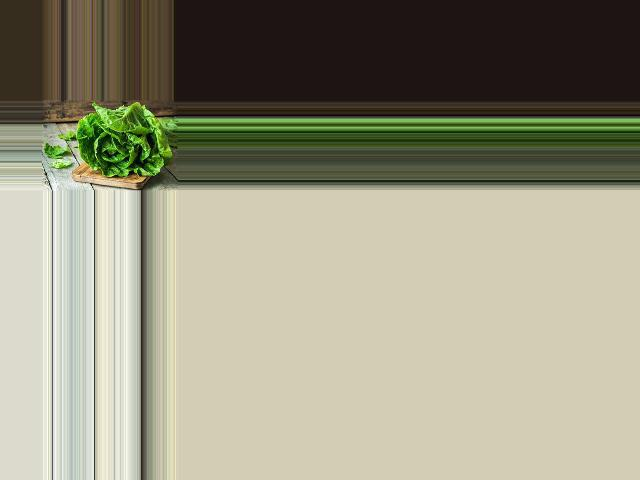lettuce: (80, 104, 173, 181)
